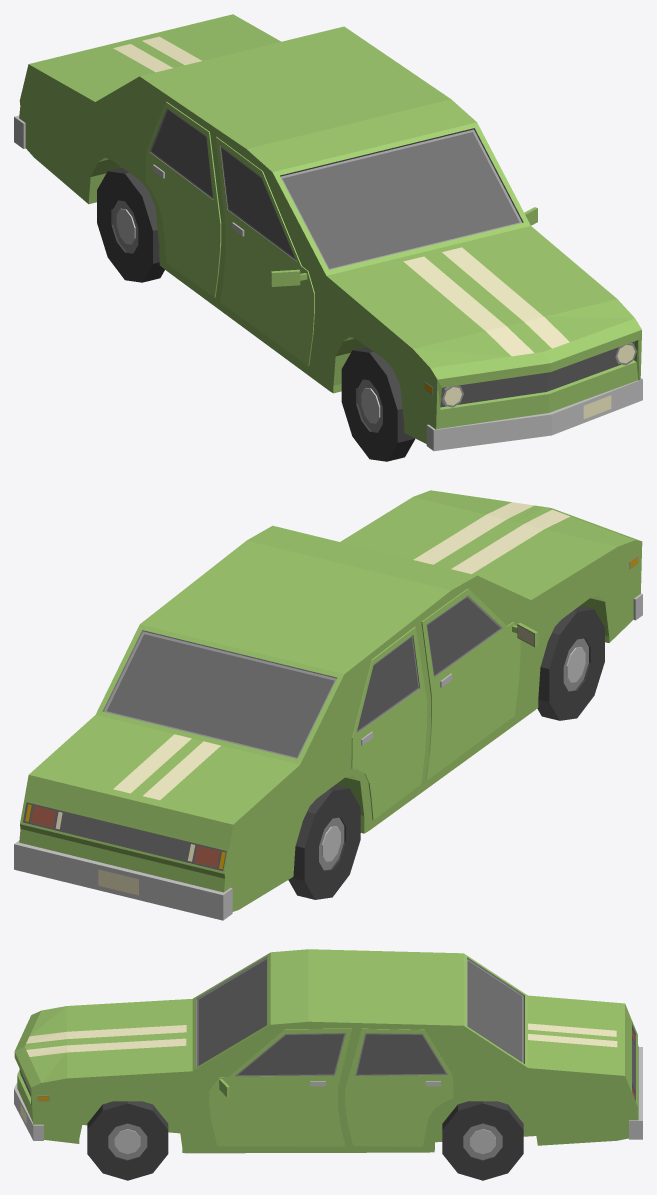
Rendered from Sports car_2.fbx.
3 views of the same model, one above another, from view 1: azimuth 30°, elevation 25°; view 2: azimuth 150°, elevation 25°; view 3: azimuth 270°, elevation 25° (orthographic). The views are drawn at different scales.
Parts seen in each view (by area): view 1: trhh, Cylinder_2_1, Cylinder_2_3; view 2: trhh, Cylinder_2_3, Cylinder_2_1; view 3: trhh, Cylinder_2_2, Cylinder_2.
Part boxes in pixels (x1=…): trhh: x1=14, y1=14, x2=642, y2=451; Cylinder_2_1: x1=341, y1=347, x2=415, y2=461; Cylinder_2_3: x1=97, y1=168, x2=164, y2=282; trhh: x1=14, y1=490, x2=642, y2=920; Cylinder_2_3: x1=288, y1=785, x2=360, y2=899; Cylinder_2_1: x1=537, y1=606, x2=604, y2=720; trhh: x1=14, y1=949, x2=642, y2=1153; Cylinder_2_2: x1=442, y1=1101, x2=523, y2=1180; Cylinder_2: x1=87, y1=1101, x2=168, y2=1180.
Size of the model in its own units: 169 by 133 by 477.
